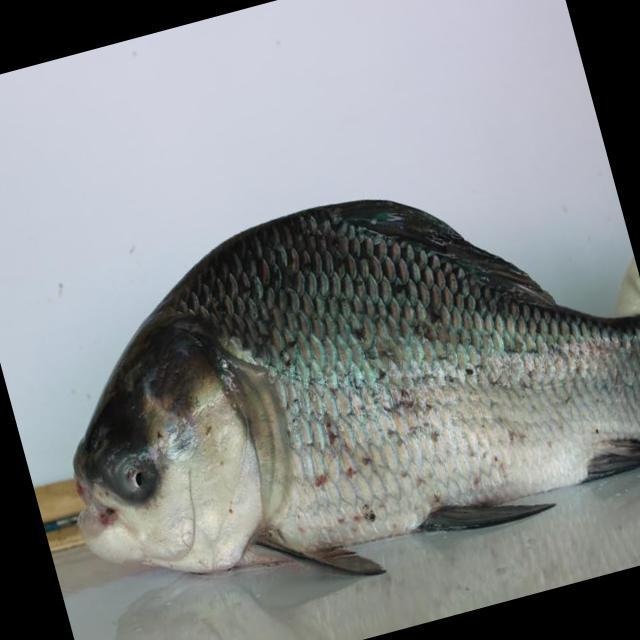Catla: (62, 198, 640, 583)
